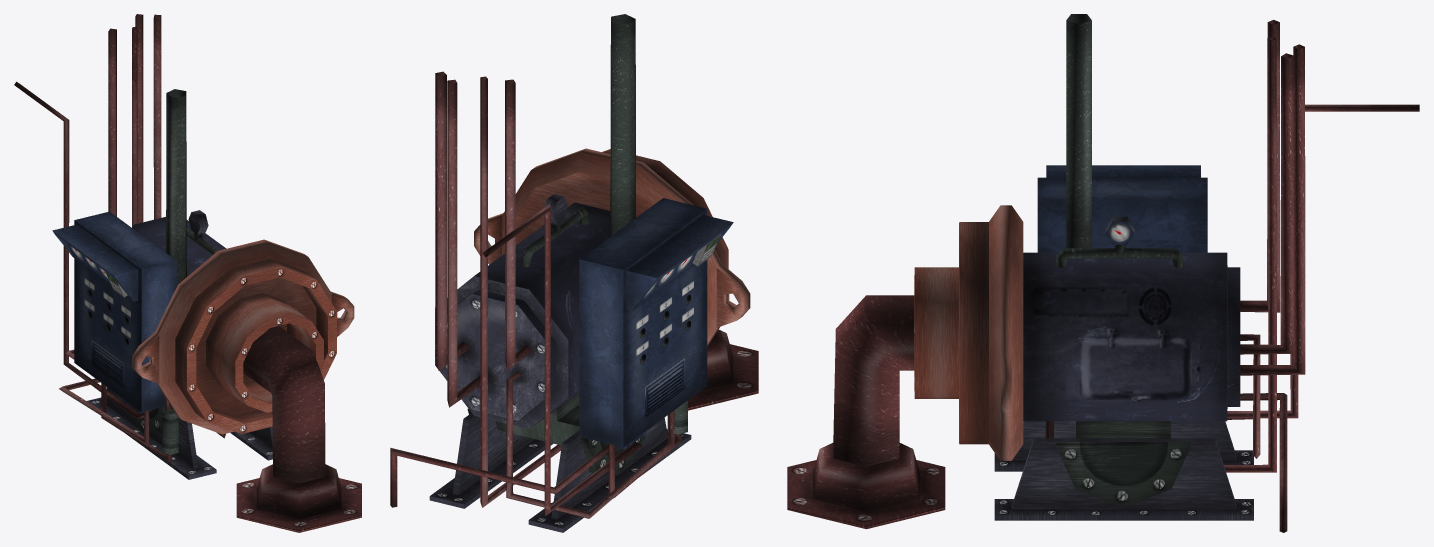
Rendered from low-pol_furnace.glb.
3 renders of one model, left to right at view 1: azimuth 30°, elevation 25°; view 2: azimuth 150°, elevation 25°; view 3: azimuth 270°, elevation 25°, orthographic. The views are drawn at different scales.
Parts seen in each view (by area): view 1: machine.3ds_0; view 2: machine.3ds_0; view 3: machine.3ds_0.
Boxes of the visible parts, <box> form: machine.3ds_0: <box>14,14,361,532</box>; machine.3ds_0: <box>390,14,758,532</box>; machine.3ds_0: <box>787,14,1419,532</box>.
Bounding box in the file's own units: 18.19 × 28.14 × 35.53.
Materials: 1 (1 with a texture image).
